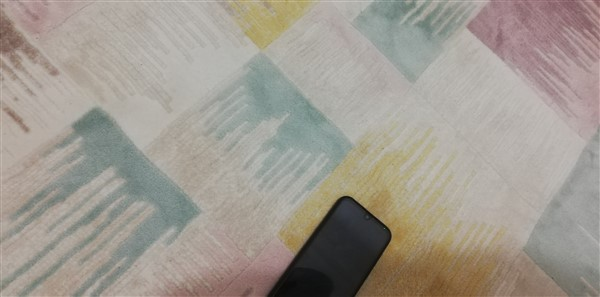telefon: (265, 192, 396, 297)
